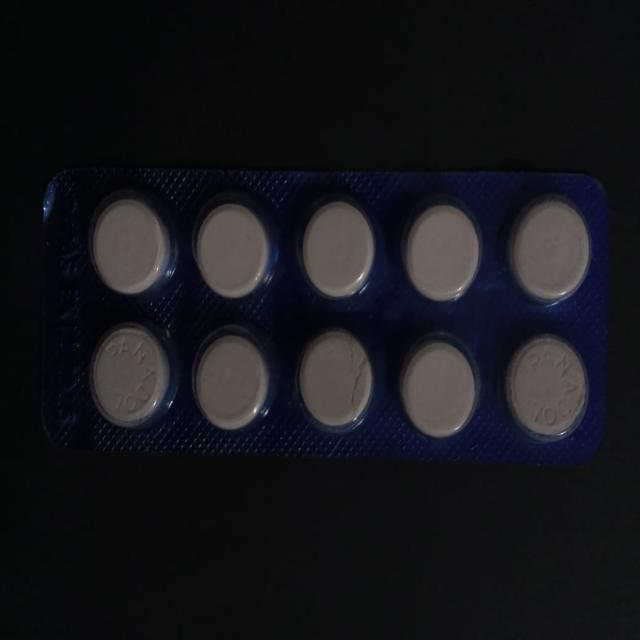defect: (297, 328, 376, 433)
